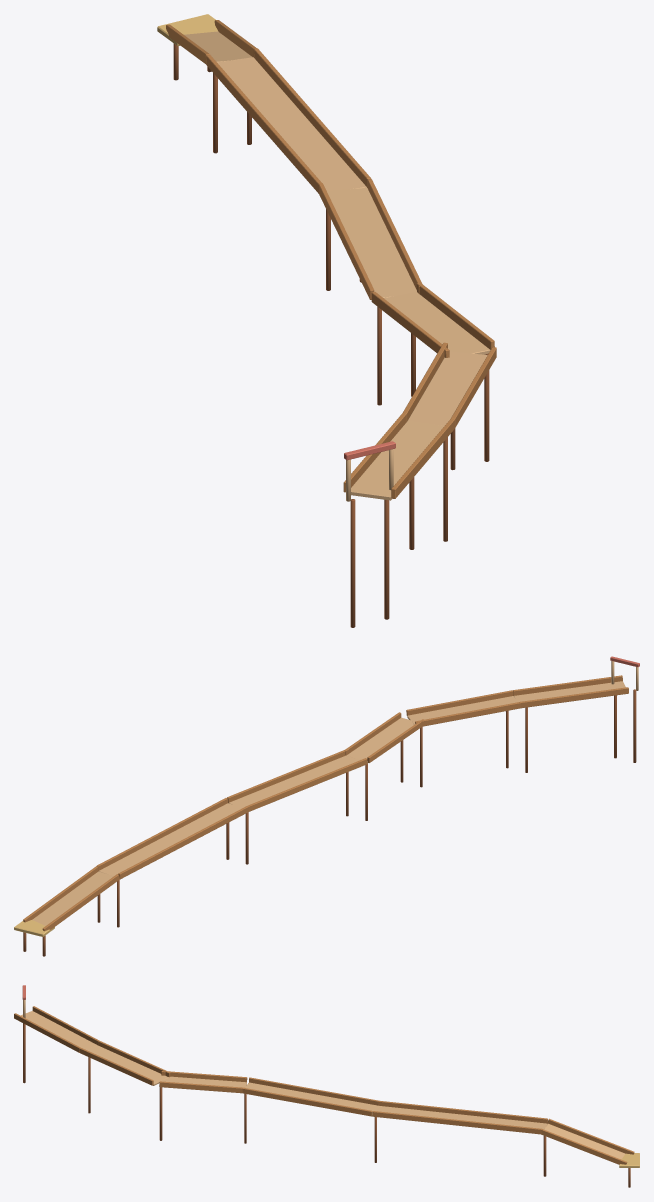
3 views of the same model, one above another, from view 1: azimuth 30°, elevation 25°; view 2: azimuth 150°, elevation 25°; view 3: azimuth 270°, elevation 25° (orthographic). The views are drawn at different scales.
Visible parts, largest first — view 1: F35W_Full_Bed_4, F35W_Full_Bed_3, F35W_Full_Bed_1, F35W_Full_Bed_0, F35W_Full_Bed_2, F35W_Full_Curb_4.001, F35W_Full_Curb_4, F35W_Full_Bed_5, F35W_Full_Curb_3.001, F35W_Full_Curb_2.001, F35W_Full_Curb_3, F35W_Full_Curb_2 (+1 smaller); view 2: F35W_Full_Bed_4, F35W_Full_Bed_3, F35W_Full_Bed_5, F35W_Full_Curb_4.001, F35W_Full_Bed_2, F35W_Full_Curb_4, F35W_Full_Curb_3.001, F35W_Full_Bed_1, F35W_Full_Curb_3, F35W_Full_Bed_0, F35W_Full_Curb_0.001, F35W_Full_Curb_1.001 (+5 smaller); view 3: F35W_Full_Bed_4, F35W_Full_Curb_4, F35W_Full_Curb_4.001, F35W_Full_Bed_3, F35W_Full_Curb_3, F35W_Full_Bed_1, F35W_Full_Bed_0, F35W_Full_Curb_3.001, F35W_Full_Bed_5, F35W_Full_Curb_5, F35W_Full_Curb_2, F35W_Full_Bed_2 (+6 smaller).
Boxes of the visible parts, x1=… form: F35W_Full_Bed_4: x1=217, y1=57, x2=366, y2=190; F35W_Full_Bed_3: x1=327, y1=188, x2=417, y2=298; F35W_Full_Bed_1: x1=407, y1=351, x2=487, y2=425; F35W_Full_Bed_0: x1=351, y1=421, x2=444, y2=500; F35W_Full_Bed_2: x1=384, y1=291, x2=490, y2=354; F35W_Full_Curb_4.001: x1=206, y1=55, x2=321, y2=193; F35W_Full_Curb_4: x1=253, y1=48, x2=371, y2=187; F35W_Full_Bed_5: x1=184, y1=31, x2=252, y2=62; F35W_Full_Curb_3.001: x1=318, y1=183, x2=374, y2=299; F35W_Full_Curb_2.001: x1=371, y1=292, x2=449, y2=357; F35W_Full_Curb_3: x1=367, y1=179, x2=422, y2=294; F35W_Full_Curb_2: x1=416, y1=282, x2=494, y2=349; F35W_Full_Bed_4: x1=98, y1=803, x2=240, y2=876; F35W_Full_Bed_3: x1=229, y1=755, x2=359, y2=808; F35W_Full_Bed_5: x1=32, y1=871, x2=113, y2=925; F35W_Full_Curb_4.001: x1=118, y1=806, x2=248, y2=879; F35W_Full_Bed_2: x1=346, y1=717, x2=413, y2=763; F35W_Full_Curb_4: x1=97, y1=798, x2=227, y2=870; F35W_Full_Curb_3.001: x1=246, y1=758, x2=367, y2=811; F35W_Full_Bed_1: x1=407, y1=696, x2=516, y2=724; F35W_Full_Curb_3: x1=227, y1=749, x2=348, y2=803; F35W_Full_Bed_0: x1=514, y1=681, x2=625, y2=706; F35W_Full_Curb_0.001: x1=519, y1=687, x2=628, y2=707; F35W_Full_Curb_1.001: x1=415, y1=702, x2=521, y2=726; F35W_Full_Bed_4: x1=375, y1=1106, x2=547, y2=1133; F35W_Full_Curb_4: x1=372, y1=1111, x2=543, y2=1134; F35W_Full_Curb_4.001: x1=377, y1=1101, x2=547, y2=1123; F35W_Full_Bed_3: x1=245, y1=1082, x2=379, y2=1116; F35W_Full_Curb_3: x1=242, y1=1088, x2=372, y2=1116; F35W_Full_Bed_1: x1=86, y1=1045, x2=168, y2=1085; F35W_Full_Bed_0: x1=20, y1=1011, x2=97, y2=1049; F35W_Full_Curb_3.001: x1=249, y1=1077, x2=379, y2=1105; F35W_Full_Bed_5: x1=544, y1=1123, x2=625, y2=1159; F35W_Full_Curb_5: x1=541, y1=1129, x2=627, y2=1164; F35W_Full_Curb_2: x1=159, y1=1081, x2=244, y2=1093; F35W_Full_Bed_2: x1=160, y1=1076, x2=246, y2=1093.
Size of the model in its own units: 21.25 by 7.42 by 48.1.
